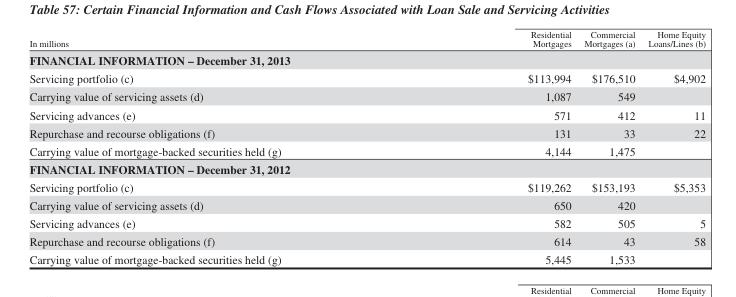table: (28, 29, 704, 265)
table column: (28, 29, 403, 265), (403, 29, 577, 265), (640, 29, 704, 265), (577, 29, 640, 265)
table column header: (28, 29, 704, 50)
table projected row header: (28, 50, 704, 69), (28, 159, 704, 177)
table row: (28, 29, 704, 50), (28, 50, 704, 69), (28, 177, 704, 196), (28, 69, 704, 87), (28, 87, 704, 105), (28, 105, 704, 123), (28, 123, 704, 141), (28, 141, 704, 159), (28, 159, 704, 177), (28, 196, 704, 214), (28, 214, 704, 232), (28, 232, 704, 250), (28, 250, 704, 265)
